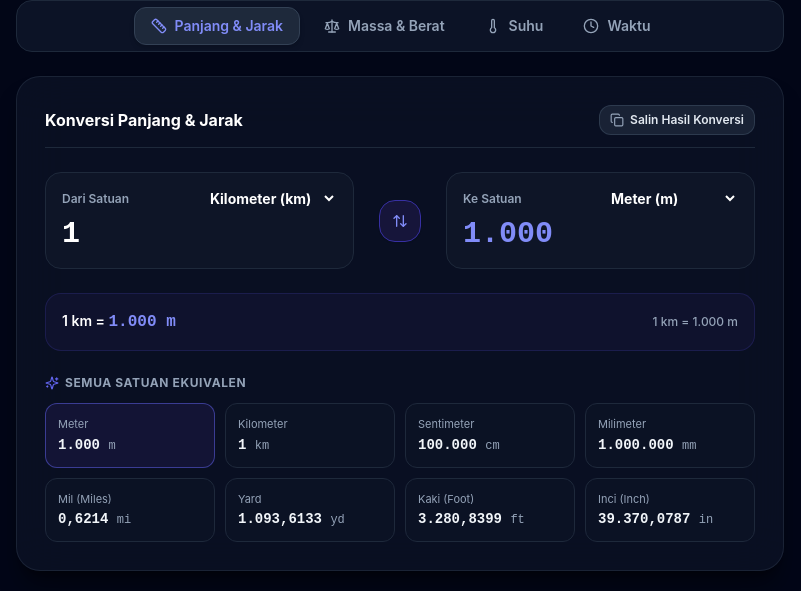
Test: UnitConverter Component › switches between unit categories (e.g. Suhu / Temperature)
Click the button "Suhu" at coordinates (514, 26), box [469,8,559,44]
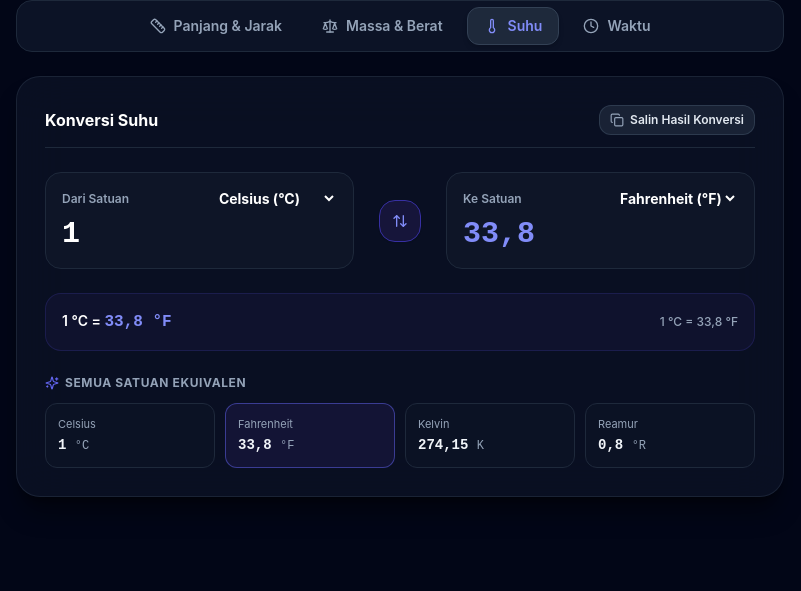
Expected: the heading "Konversi Suhu" is shown, [45,108,158,132]
